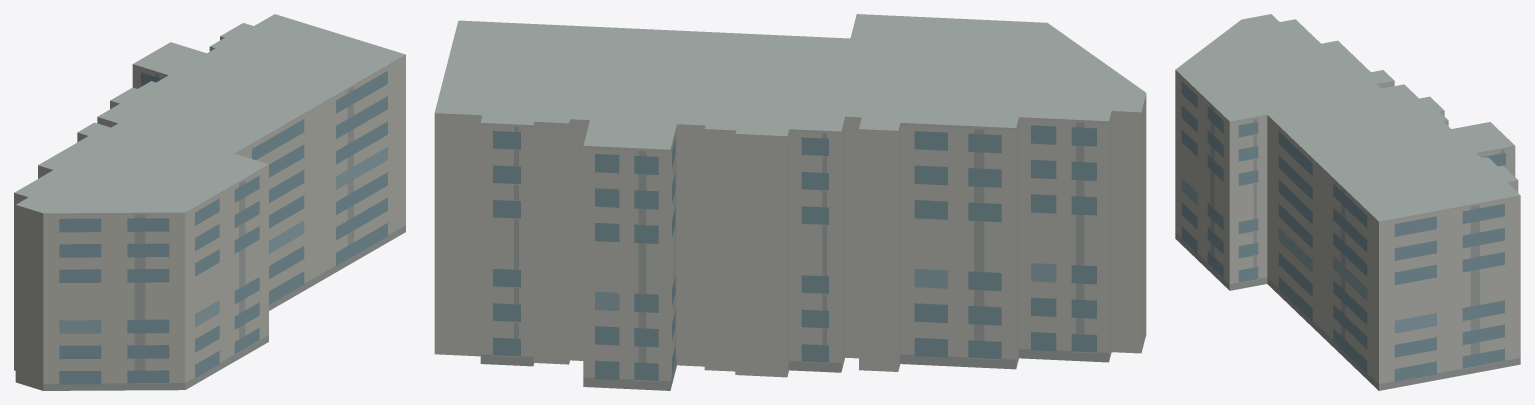
File: residential-6cab3e97-2e62-46bc-9d4c-f52fa5db5a9e.glb
3 renders of one model, left to right at view 1: azimuth 30°, elevation 25°; view 2: azimuth 150°, elevation 25°; view 3: azimuth 270°, elevation 25°, orthographic. The views are drawn at different scales.
Parts seen in each view (by area): view 1: residential-6cab3e97-2e62-46bc-9d4c-f52fa5db5a9e.tmp; view 2: residential-6cab3e97-2e62-46bc-9d4c-f52fa5db5a9e.tmp; view 3: residential-6cab3e97-2e62-46bc-9d4c-f52fa5db5a9e.tmp.
Boxes of the visible parts, x1,y1,x2,y2 form: residential-6cab3e97-2e62-46bc-9d4c-f52fa5db5a9e.tmp: (14, 14, 405, 390); residential-6cab3e97-2e62-46bc-9d4c-f52fa5db5a9e.tmp: (434, 14, 1146, 390); residential-6cab3e97-2e62-46bc-9d4c-f52fa5db5a9e.tmp: (1175, 14, 1520, 390).
Size of the model in its own units: 57.9 by 22 by 40.65.
